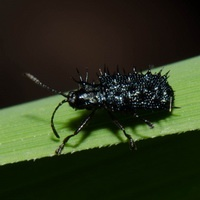insect: (25, 68, 173, 154)
